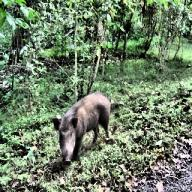boar: (51, 90, 111, 164)
